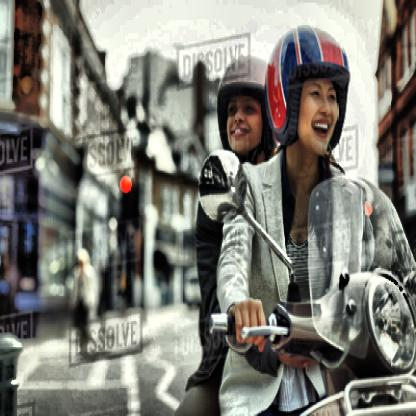wear: (271, 26, 341, 157), (220, 65, 268, 163)
